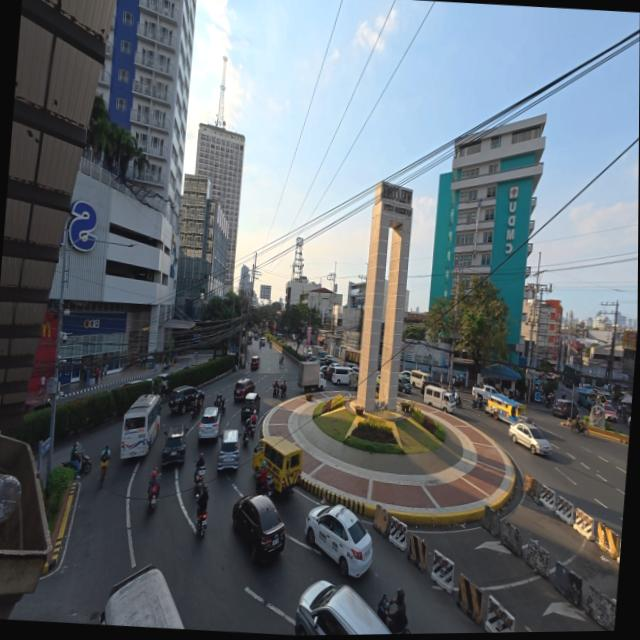car: (226, 493, 288, 571), (509, 421, 554, 457)
motorcycle: (376, 588, 409, 634)
